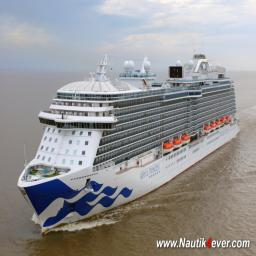cruises: (17, 40, 242, 231)
